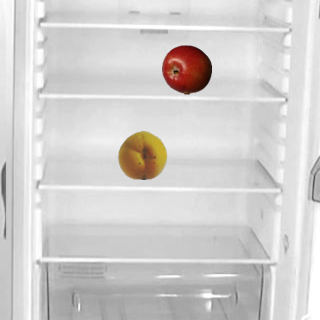Apple Braeburn: (161, 44, 211, 94)
Peach 2: (117, 129, 167, 179)
